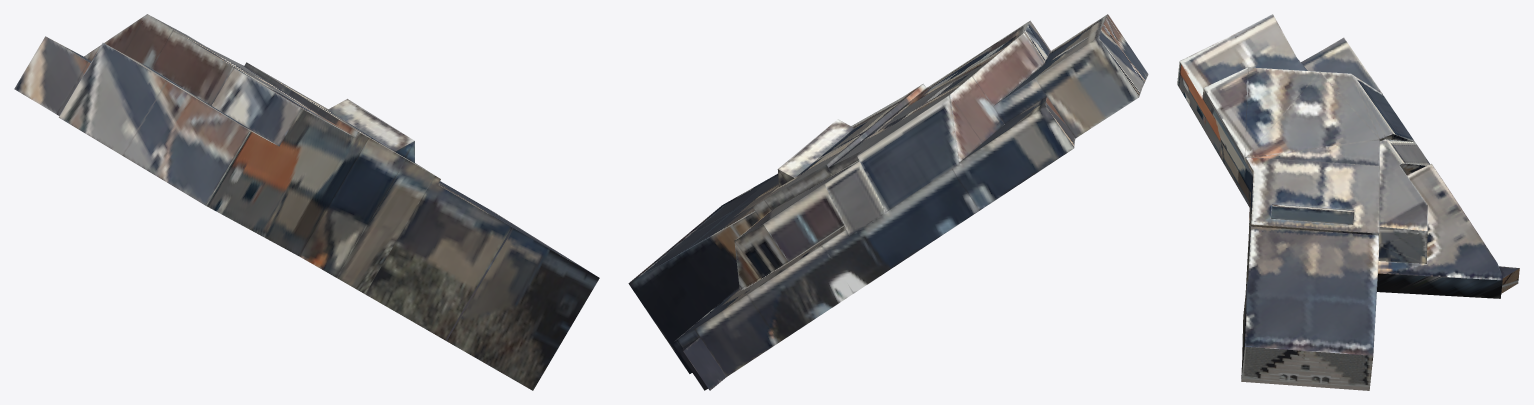
3 renders of one model, left to right at view 1: azimuth 30°, elevation 25°; view 2: azimuth 150°, elevation 25°; view 3: azimuth 270°, elevation 25°, orthographic. The views are drawn at different scales.
Parts seen in each view (by area): view 1: BAG_0599100010058326 (×6); view 2: BAG_0599100010058326 (×6); view 3: BAG_0599100010058326 (×6).
Part boxes in pixels (x1=…): BAG_0599100010058326 (×6): x1=14, y1=14, x2=599, y2=390; BAG_0599100010058326 (×6): x1=628, y1=14, x2=1148, y2=390; BAG_0599100010058326 (×6): x1=1177, y1=14, x2=1519, y2=390.
Bounding box in the file's own units: 31.31 × 25.28 × 30.17.
Materials: 7 (7 with a texture image).
